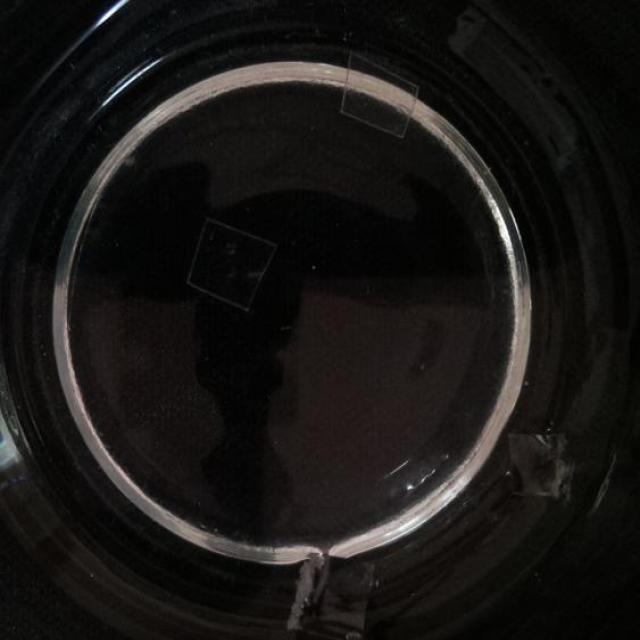fiber: (188, 218, 276, 312), (291, 552, 374, 640), (335, 54, 420, 138), (507, 435, 573, 505)
